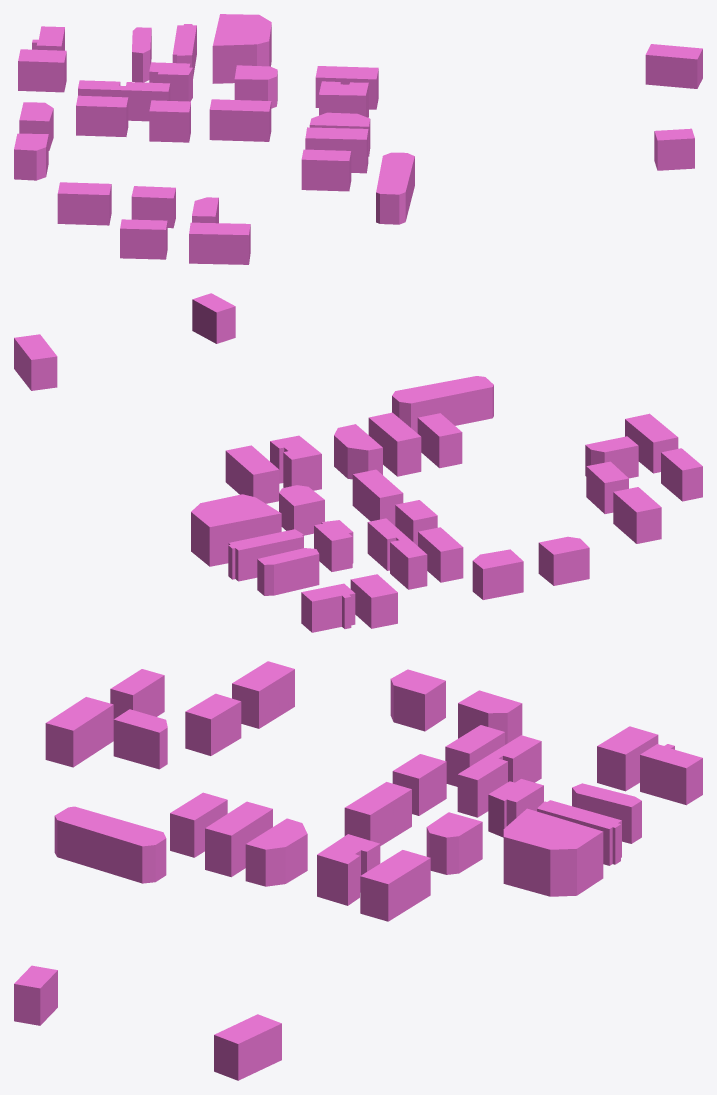
File: bld_19_9.fbx
3 renders of one model, top to bottom at view 1: azimuth 30°, elevation 25°; view 2: azimuth 150°, elevation 25°; view 3: azimuth 270°, elevation 25°, orthographic. The views are drawn at different scales.
Parts seen in each view (by area): view 1: bld_19_9_COL; view 2: bld_19_9_COL; view 3: bld_19_9_COL.
Boxes of the visible parts, x1,y1,x2,y2 form: bld_19_9_COL: [14, 14, 702, 264]; bld_19_9_COL: [14, 293, 702, 632]; bld_19_9_COL: [14, 661, 702, 1080].
Size of what is drawn, in the model's own units: 591 by 33.86 by 450.
